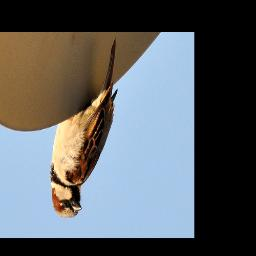Swallow: (49, 38, 118, 218)
